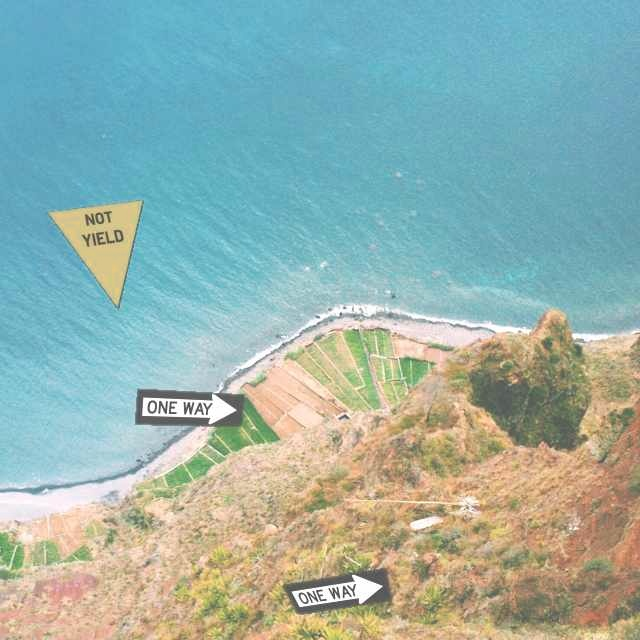NOT_YIELD: (46, 199, 144, 310)
ONE_WAY_ right: (281, 567, 392, 615), (134, 388, 245, 427)
